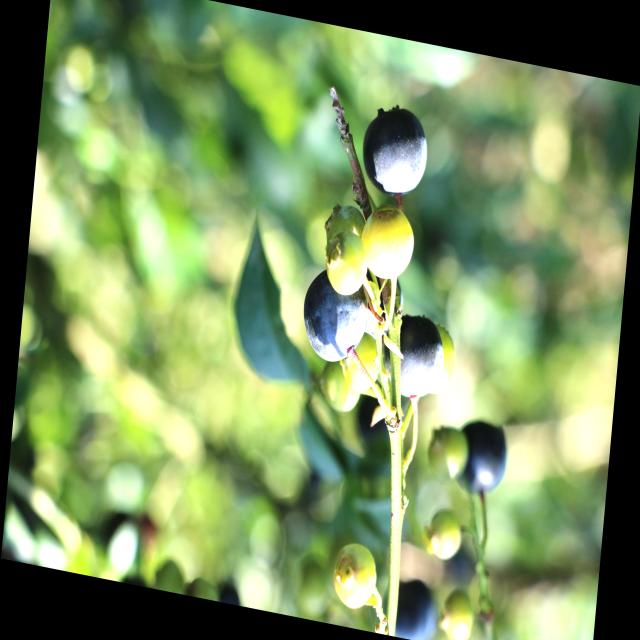blueberry: (296, 262, 371, 368), (359, 100, 432, 200), (378, 305, 448, 404), (450, 417, 509, 499)
blueberry-unripe: (360, 204, 419, 284), (329, 537, 381, 612), (321, 228, 371, 291), (425, 423, 469, 490), (428, 323, 459, 398), (338, 342, 380, 396), (423, 507, 463, 562), (317, 362, 361, 412), (322, 205, 369, 247), (440, 587, 477, 640)
